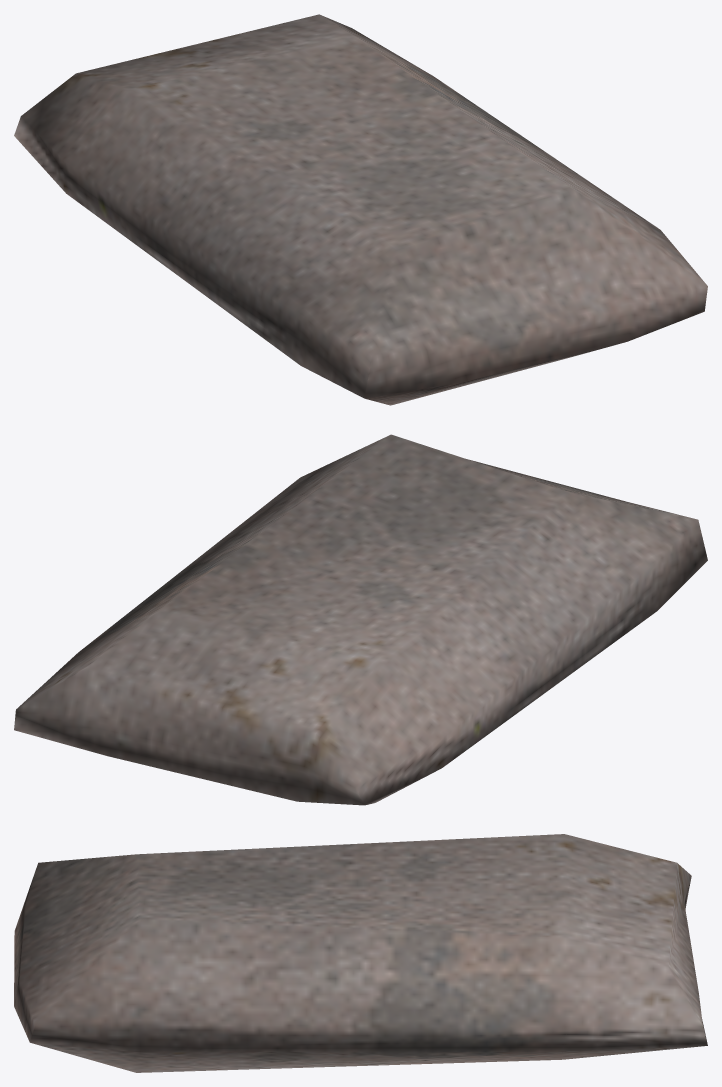
The model's file is Sack1_LOD1.fbx.
3 renders of one model, top to bottom at view 1: azimuth 30°, elevation 25°; view 2: azimuth 150°, elevation 25°; view 3: azimuth 270°, elevation 25°, orthographic. The views are drawn at different scales.
Visible parts, largest first — view 1: Sack_100_Group2; view 2: Sack_100_Group2; view 3: Sack_100_Group2.
Boxes of the visible parts, <box> form: Sack_100_Group2: <box>14,14,707,405</box>; Sack_100_Group2: <box>14,434,707,805</box>; Sack_100_Group2: <box>14,834,707,1072</box>.
Bounding box in the file's own units: 1.08 × 0.4712 × 1.87.
